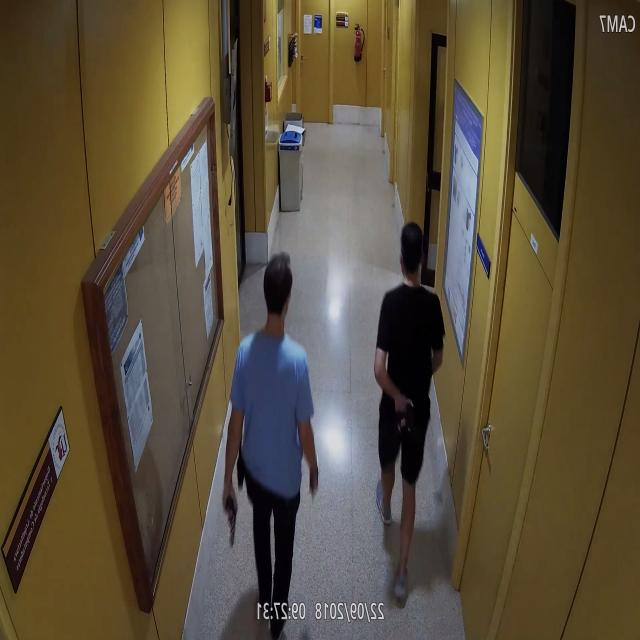knife: (310, 444, 321, 502)
pistol: (396, 401, 419, 443), (223, 495, 239, 549)
